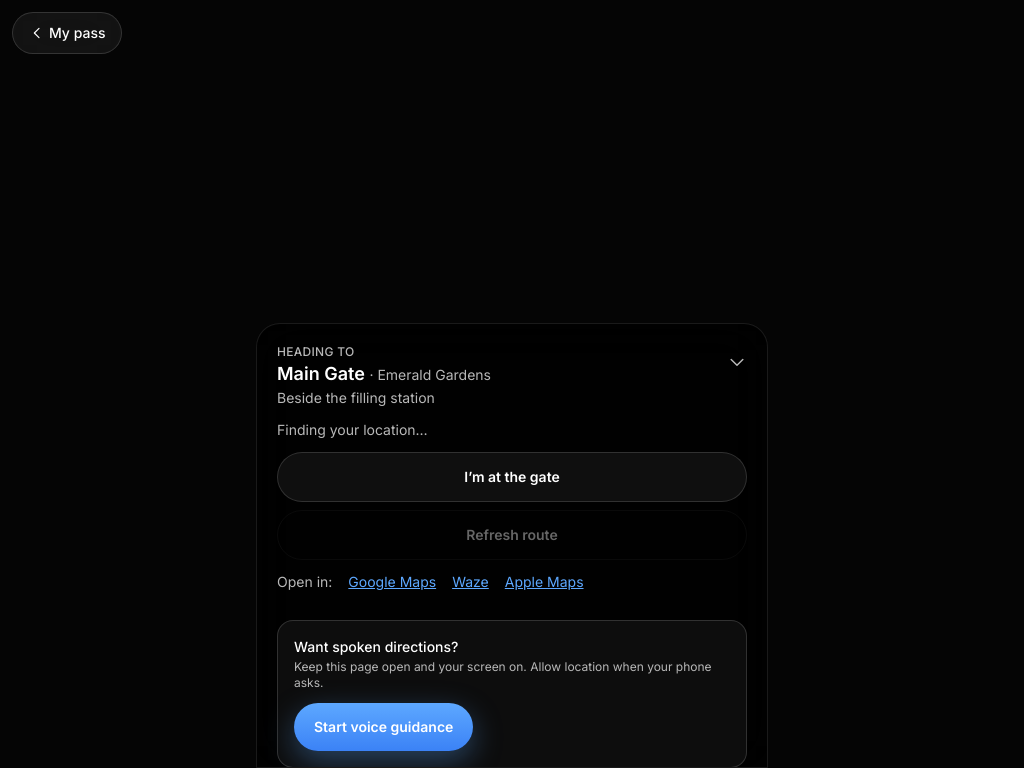
Test: NavigationScreen (full-screen map) › collapsible panel › still shows a GPS problem while collapsed
The width and height of the screenshot is (1024, 768).
Click the button with aria-label "Hide directions panel" at (316, 351), box [277, 344, 747, 408]
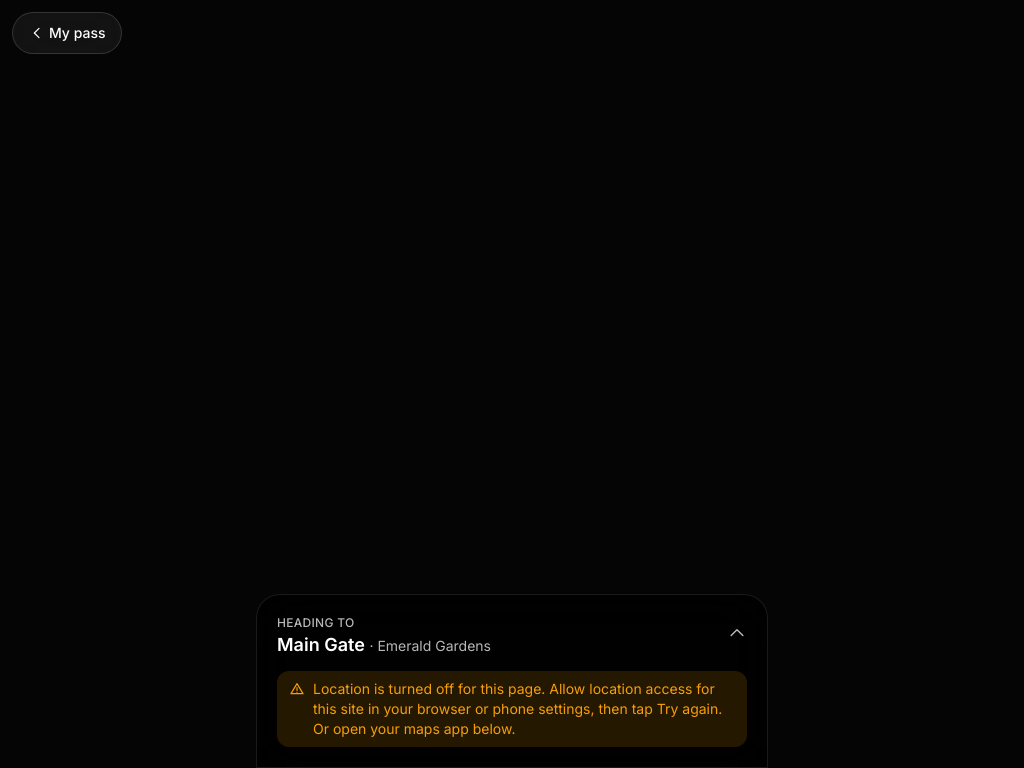
expect the message shows "Allow location access": met, box [313, 680, 722, 737]
